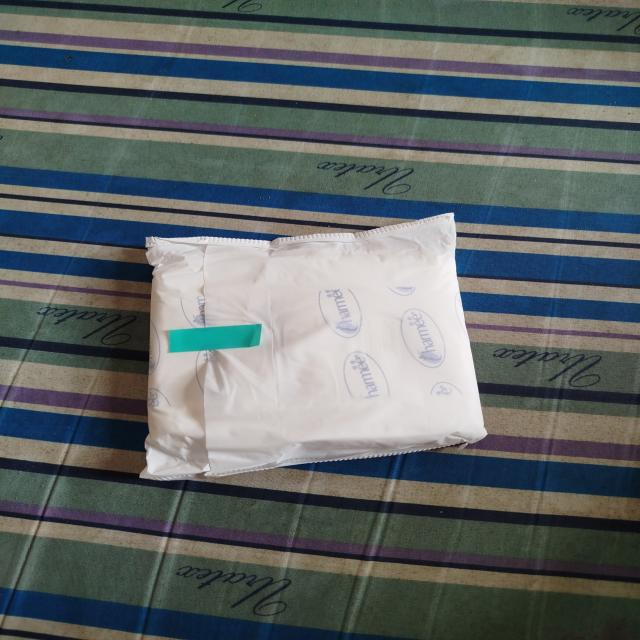residual: (132, 199, 528, 504)
